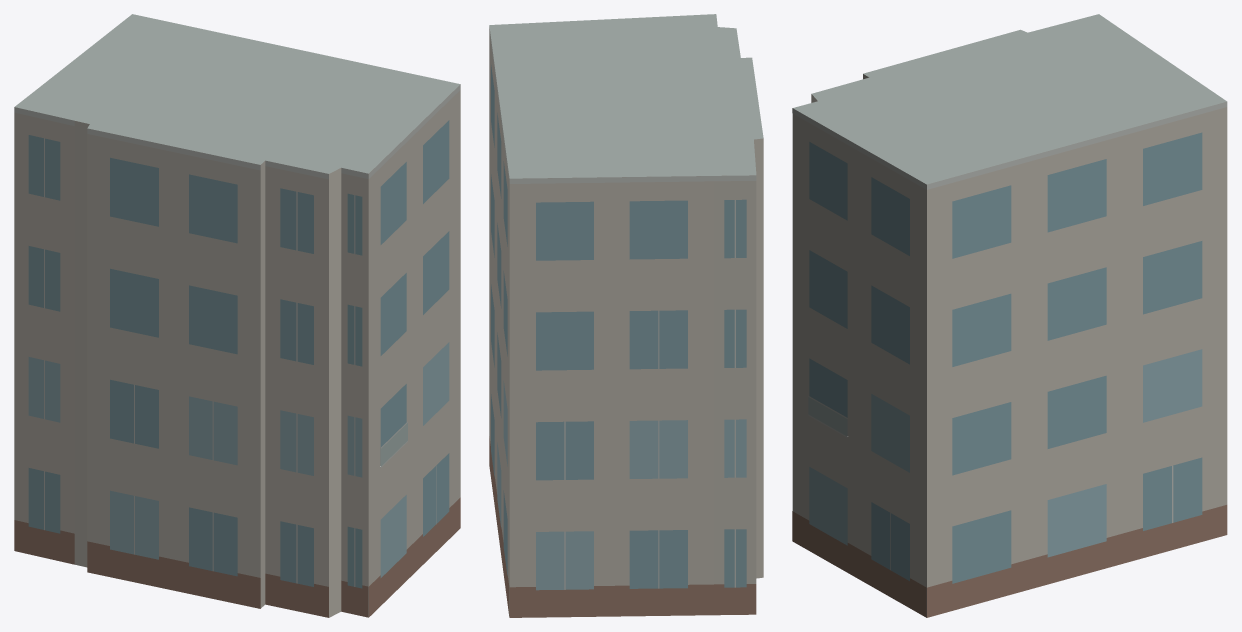
File: survey-upis-32509941.glb
3 renders of one model, left to right at view 1: azimuth 30°, elevation 25°; view 2: azimuth 150°, elevation 25°; view 3: azimuth 270°, elevation 25°, orthographic. The views are drawn at different scales.
Parts seen in each view (by area): view 1: survey-upis-32509941.tmp; view 2: survey-upis-32509941.tmp; view 3: survey-upis-32509941.tmp.
Part boxes in pixels (box(x1,y1,x2,y2)): survey-upis-32509941.tmp: box(14, 14, 460, 617); survey-upis-32509941.tmp: box(489, 14, 763, 617); survey-upis-32509941.tmp: box(792, 14, 1227, 617).
Bounding box in the file's own units: 16.56 × 19.6 × 17.83.
